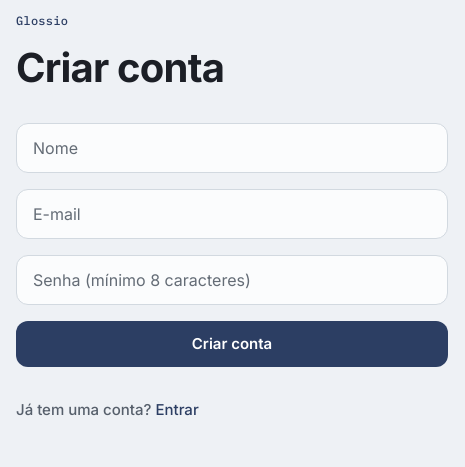
Test: Register › shows the error and does not navigate when registration fails
Type "Ana" into the field with placeholder "Nome" at [232, 148], box [16,123,448,173]
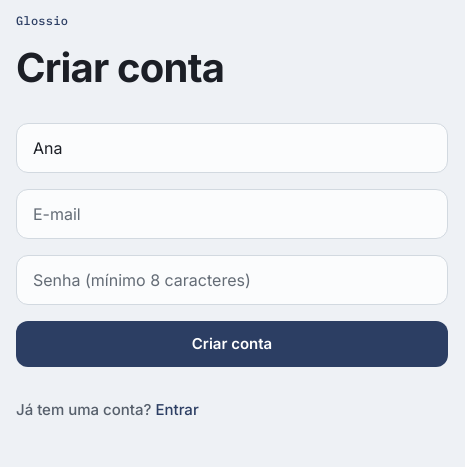
Type "ana@example.com" into the field with placeholder "E-mail" at [232, 214], box [16,189,448,239]
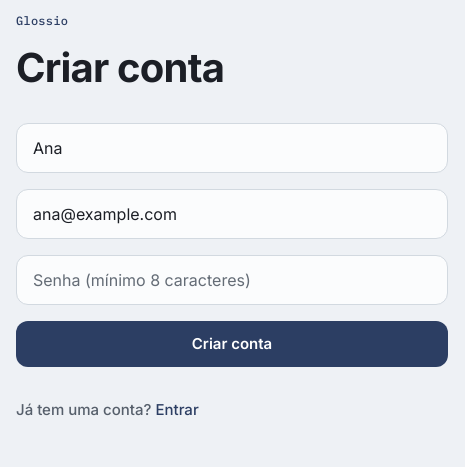
Type "senha1234" into the password field with placeholder "Senha (mínimo 8 caracteres)" at [232, 280], box [16,255,448,305]
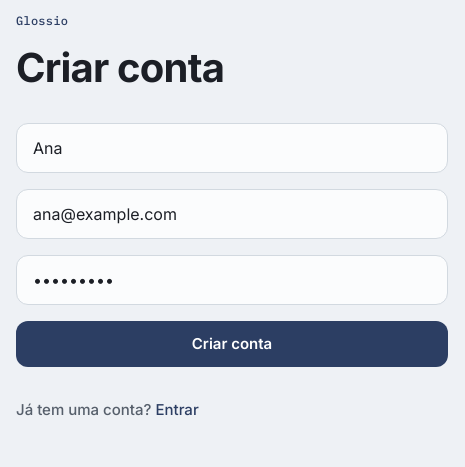
Click the button "Criar conta" at [232, 344], box [16,321,448,367]
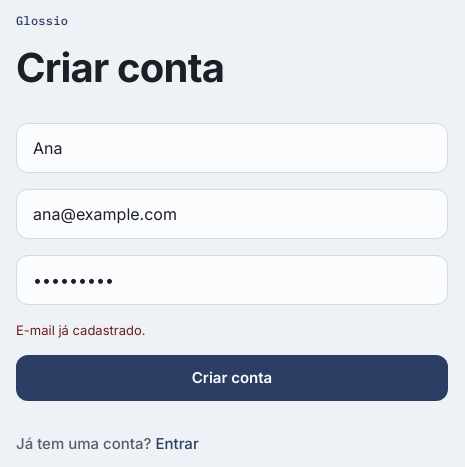
Result: the message "E-mail já cadastrado." is shown at [16,322,146,338]
